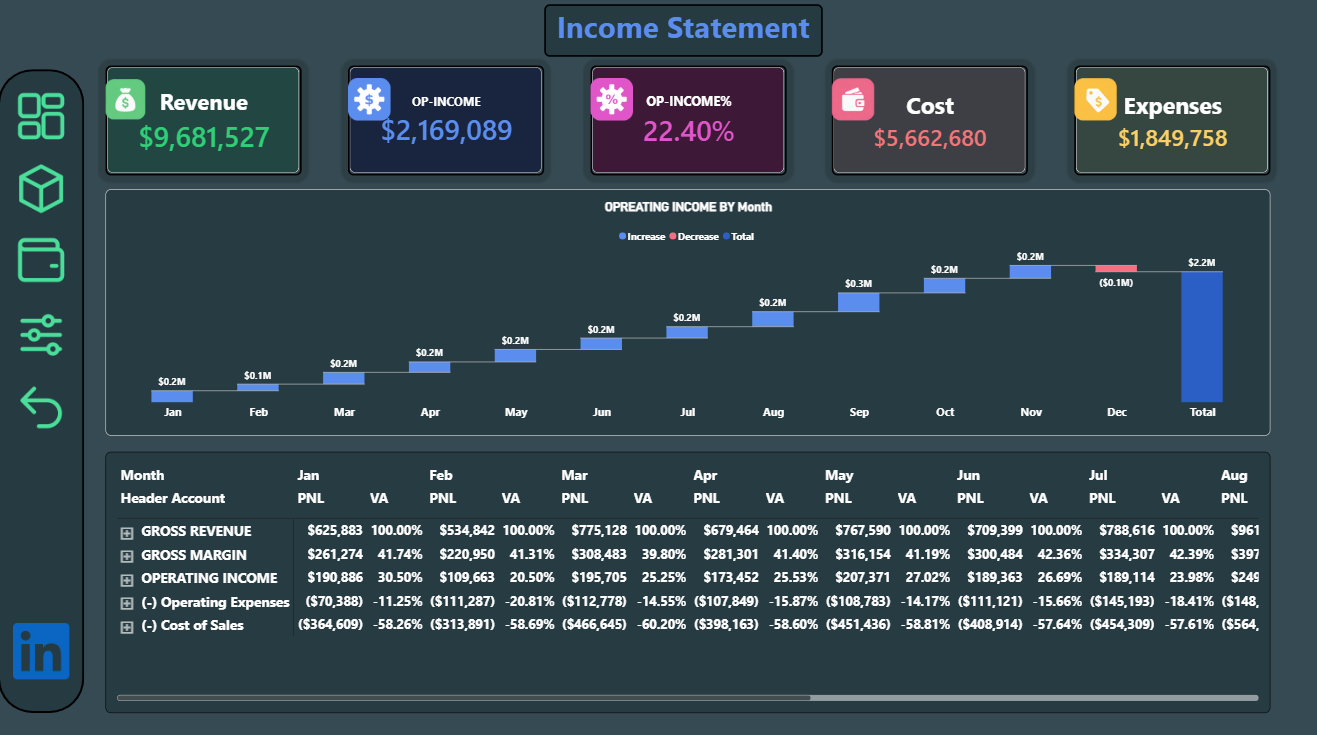

Layout of this report page (visuals, bound fields, positions):
{"tool":"powerbi","page":{"name":"Income Statement","canvas":[1920,1080],"ordinal":3},"visuals":[{"type":"cardVisual","fields":{"Data":["ExpensesAnalysis Measures.OPREATING INCOME"]},"box":[506.3,105,284.1,159.3],"z":0},{"type":"cardVisual","fields":{"Data":["overview measures.Cost"]},"box":[1207.5,105,284.1,159.3],"z":1000},{"type":"cardVisual","fields":{"Data":["overview measures.Revenue"]},"box":[155.6,105,284.1,159.3],"z":2000},{"type":"cardVisual","fields":{"Data":["ExpensesAnalysis Measures.Expenses"]},"box":[1558.1,105,284.1,159.3],"z":3000},{"type":"pivotTable","fields":{"Columns":["Calendar.Month"],"Rows":["dAccountHeader.Header Account","dAccount.Subheader Account","dAccount.Detailed Account"],"Values":["ExpensesAnalysis Measures.PNL","ExpensesAnalysis Measures.VA"]},"box":[155.6,664.1,1686.6,378.2],"z":4000},{"type":"cardVisual","fields":{"Data":["ExpensesAnalysis Measures.OP-INCOME%"]},"box":[856.9,105,284.1,159.3],"z":5000},{"type":"waterfallChart","title":"OPREATING INCOME BY Month","fields":{"Category":["Calendar.Month"],"Y":["ExpensesAnalysis Measures.OPREATING INCOME"]},"box":[155.6,284.1,1686.6,356.5],"z":6000},{"type":"image","box":[155.6,123.1,57.9,61.5],"z":7000},{"type":"image","box":[506.7,123.1,61.5,61.5],"z":8000},{"type":"image","box":[857.8,123.1,61.5,61.5],"z":9000},{"type":"image","box":[1207,123.1,61.5,61.5],"z":10000},{"type":"image","box":[1558.1,123.1,61.5,61.5],"z":11000},{"type":"shape","box":[0,110.4,124.9,932],"z":12000},{"type":"image","box":[21.7,912.1,81.4,81.4],"z":13000},{"type":"image","box":[21.7,137.5,81.4,81.4],"z":14000},{"type":"image","box":[21.7,242.9,81.4,81.4],"z":15000},{"type":"image","box":[21.7,348.4,81.4,81.4],"z":16000},{"type":"image","box":[21.7,559.2,81.4,81.4],"z":17000},{"type":"image","box":[21.7,453.8,81.4,81.4],"z":18000},{"type":"textbox","box":[790.8,16.3,403.6,76],"z":18001}]}

Visuals, with their boxes on the page's 1920x1080 design canvas (x1, y1, x2, y2). These are canvas units, not pixel positions in the 1317x735 screenshot, which may show the page scaled, cropped or inside an application window:
cardVisual - ExpensesAnalysis Measures.OPREATING INCOME: [x1=506, y1=105, x2=790, y2=264]
cardVisual - overview measures.Cost: [x1=1208, y1=105, x2=1492, y2=264]
cardVisual - overview measures.Revenue: [x1=156, y1=105, x2=440, y2=264]
cardVisual - ExpensesAnalysis Measures.Expenses: [x1=1558, y1=105, x2=1842, y2=264]
pivotTable - Calendar.Month x dAccountHeader.Header Account: [x1=156, y1=664, x2=1842, y2=1042]
cardVisual - ExpensesAnalysis Measures.OP-INCOME%: [x1=857, y1=105, x2=1141, y2=264]
"OPREATING INCOME BY Month" waterfallChart: [x1=156, y1=284, x2=1842, y2=641]
image: [x1=156, y1=123, x2=214, y2=185]
image: [x1=507, y1=123, x2=568, y2=185]
image: [x1=858, y1=123, x2=919, y2=185]
image: [x1=1207, y1=123, x2=1268, y2=185]
image: [x1=1558, y1=123, x2=1620, y2=185]
shape: [x1=0, y1=110, x2=125, y2=1042]
image: [x1=22, y1=912, x2=103, y2=994]
image: [x1=22, y1=138, x2=103, y2=219]
image: [x1=22, y1=243, x2=103, y2=324]
image: [x1=22, y1=348, x2=103, y2=430]
image: [x1=22, y1=559, x2=103, y2=641]
image: [x1=22, y1=454, x2=103, y2=535]
textbox: [x1=791, y1=16, x2=1194, y2=92]
